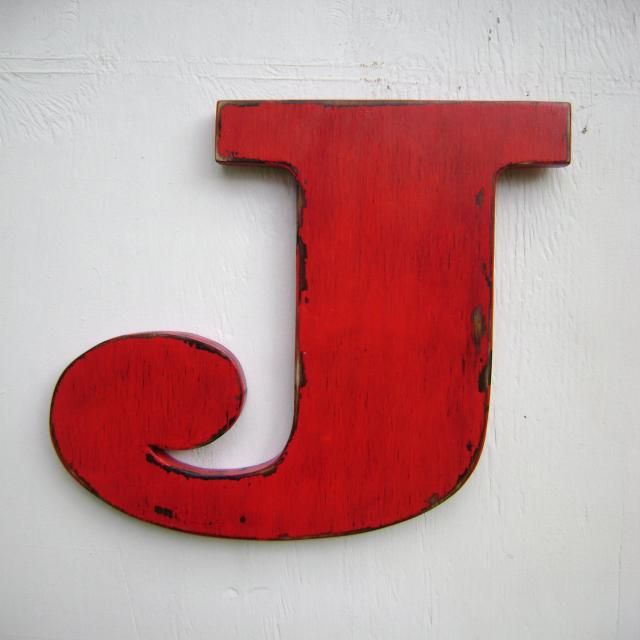J: (33, 26, 604, 596)
